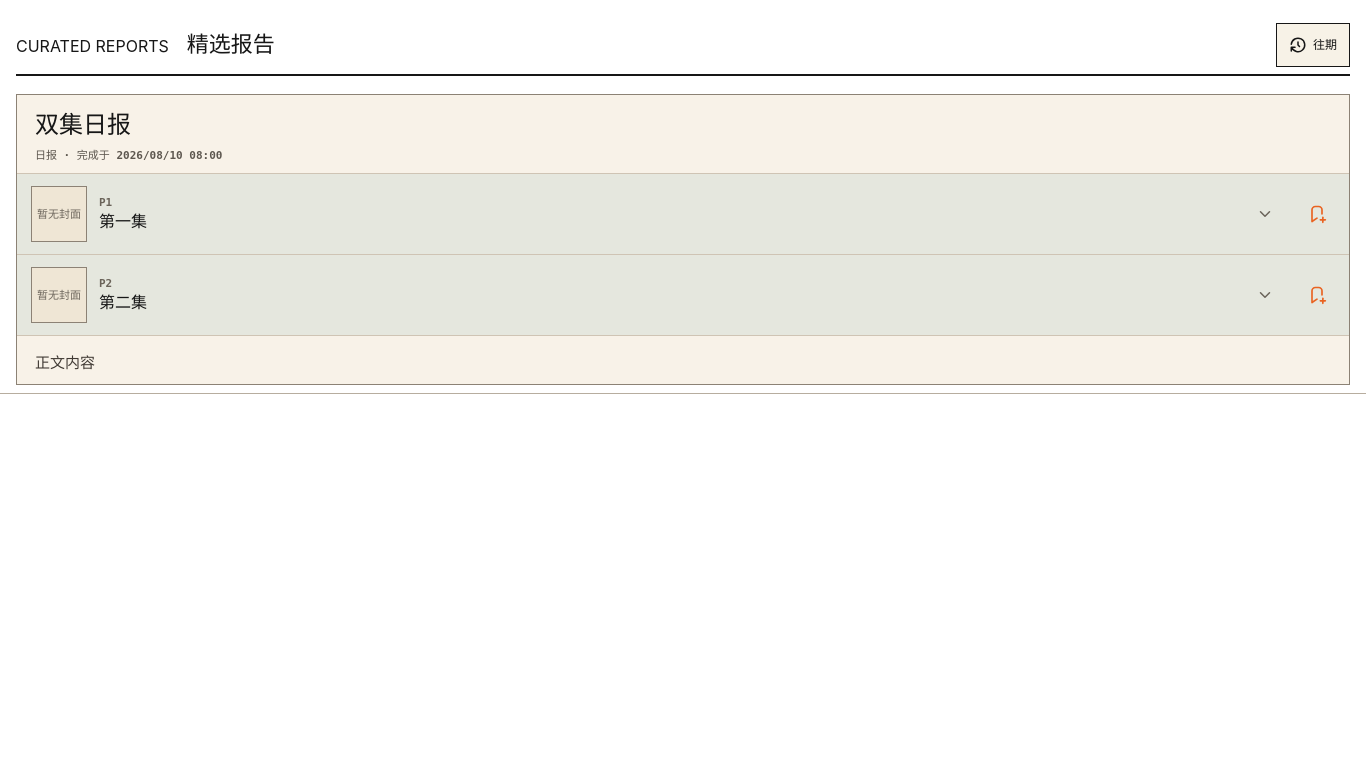
Test case: WorkflowReportWorkbench › keeps expand and collect as independent controls and shows source-backed Show Notes
Click the button named "第一集" at {"x": 1265, "y": 214}, box left=1243, top=192, right=1287, bottom=236
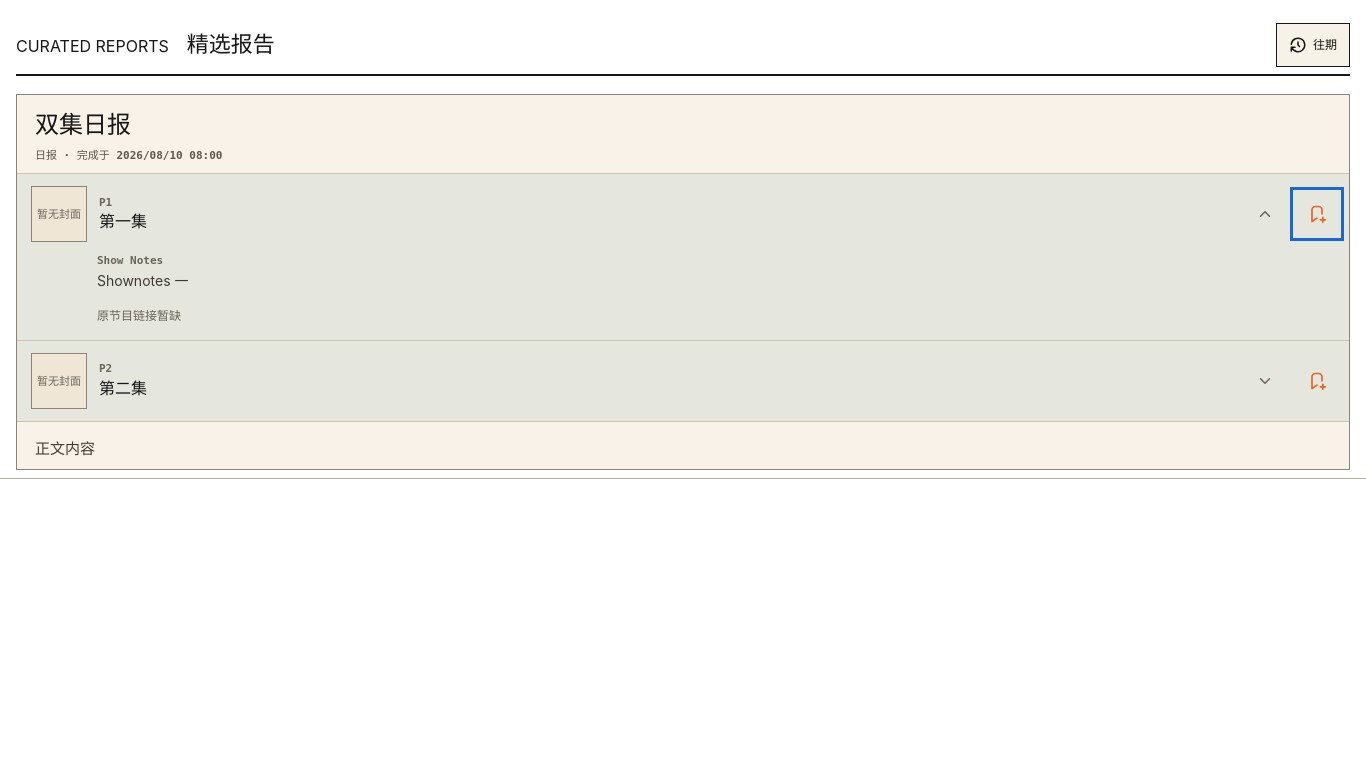
Now the text "Show Notes" is shown, box left=97, top=254, right=163, bottom=267
Now the text "Shownotes 一" is shown, box left=97, top=272, right=188, bottom=290
Press Enter
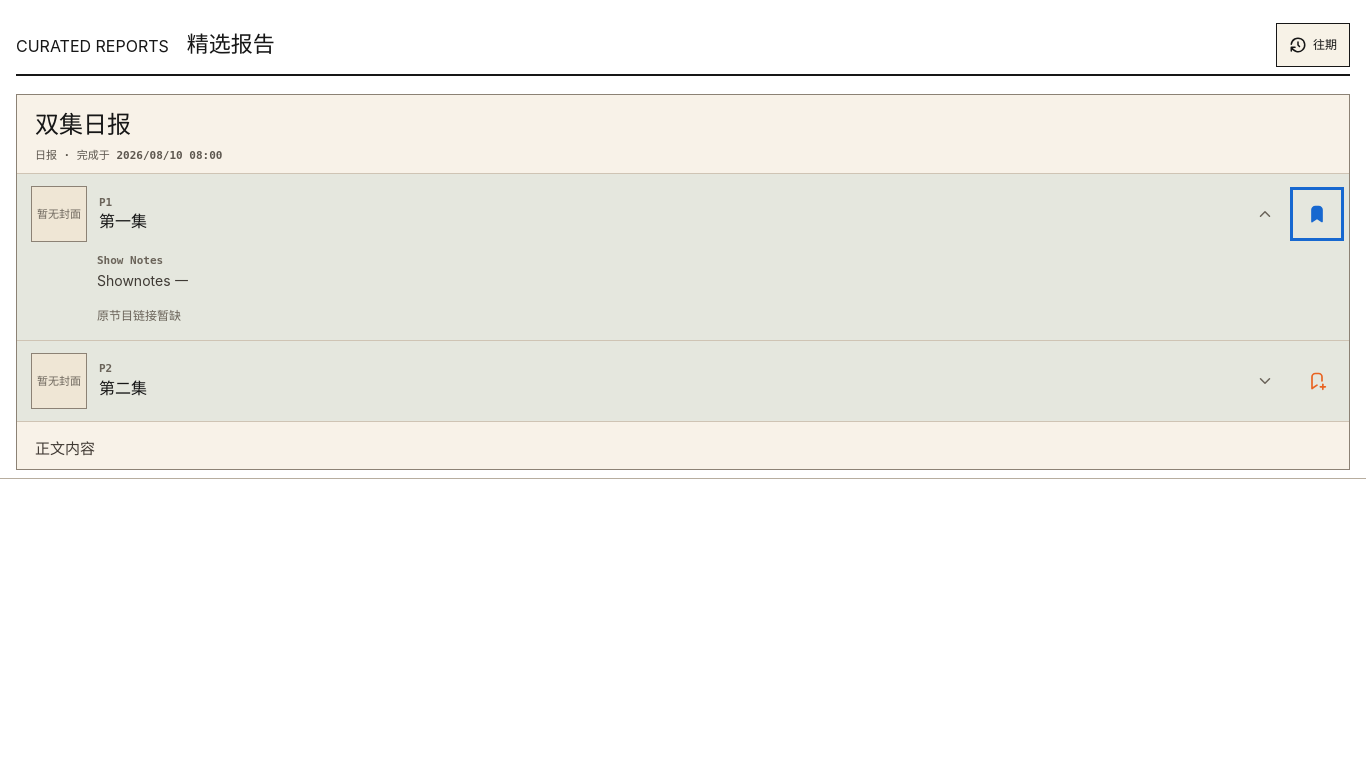
Expected: the button named "从 Inbox 移除" is enabled, left=1295, top=192, right=1339, bottom=236
Now the text "Shownotes 一" is shown, box left=97, top=272, right=188, bottom=290
Now the icon with class "tabler-icon-bookmark-filled" is shown, box left=1307, top=204, right=1327, bottom=224
Press Enter
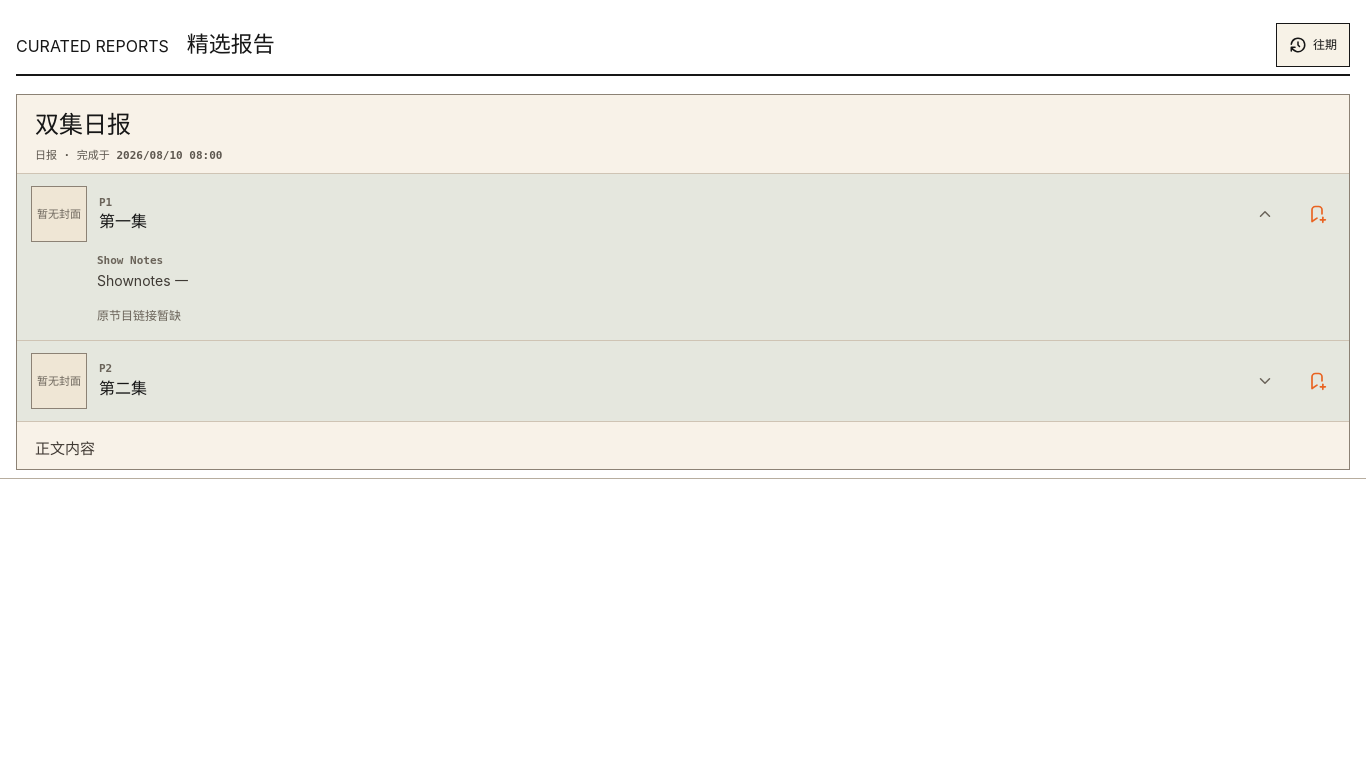
Expected: the button named "收集到 Inbox" in the row of "第一集" is enabled, left=1295, top=192, right=1339, bottom=236
Click the button named "第二集" at {"x": 1265, "y": 381}, box left=1243, top=359, right=1287, bottom=403
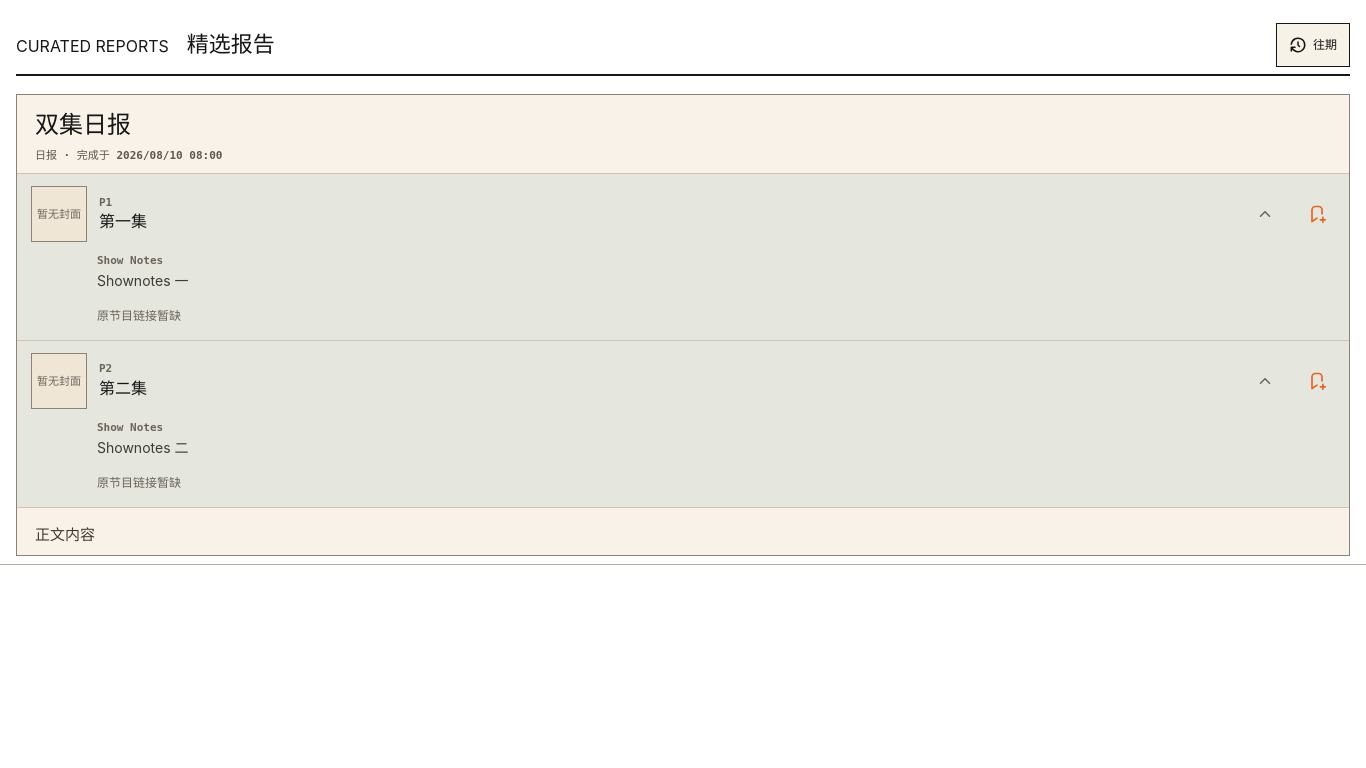
Now the text "Shownotes 一" is shown, box left=97, top=272, right=188, bottom=290
Now the text "Shownotes 二" is shown, box left=97, top=439, right=188, bottom=456
